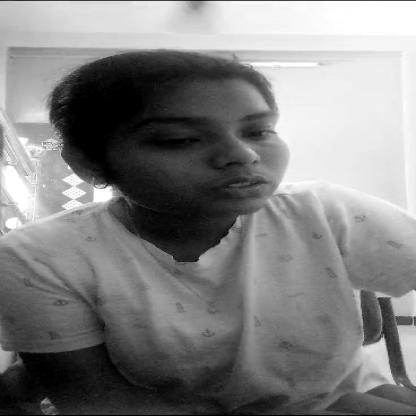Distracted: (91, 96, 296, 214)
